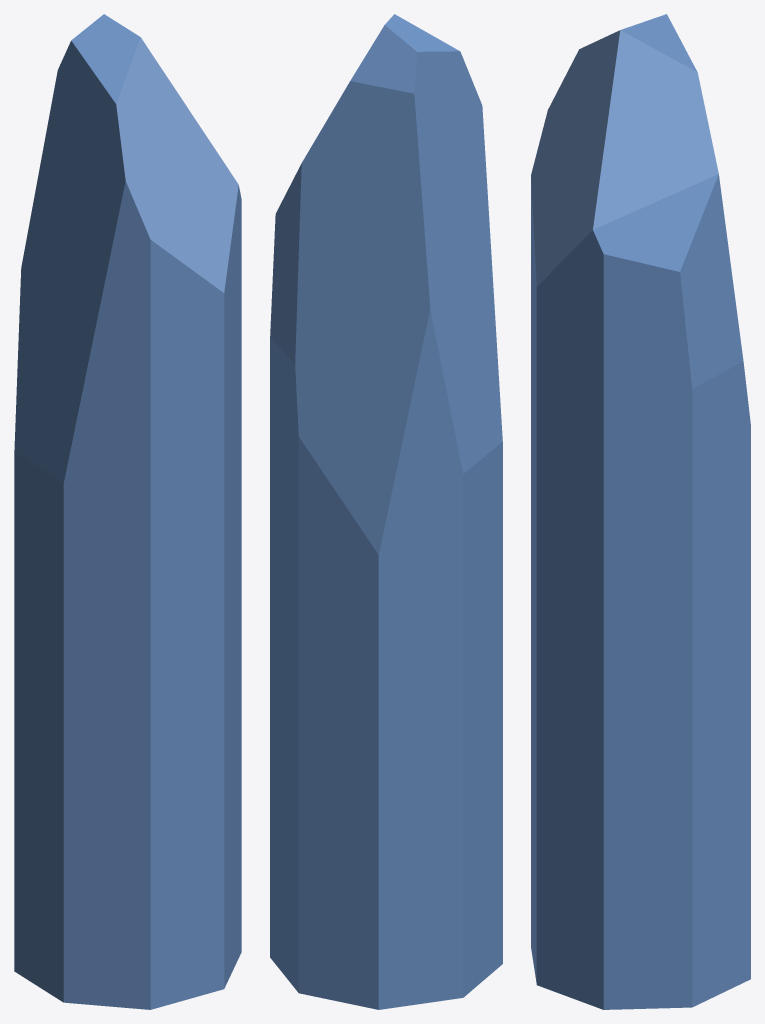
The model's file is crystal_4.fbx.
3 views of the same model, side by side, from view 1: azimuth 30°, elevation 25°; view 2: azimuth 150°, elevation 25°; view 3: azimuth 270°, elevation 25° (orthographic).
Visible parts, largest first — view 1: crystal_4; view 2: crystal_4; view 3: crystal_4.
Boxes of the visible parts, bbox=[...] form: crystal_4: bbox=[14, 14, 241, 1009]; crystal_4: bbox=[270, 14, 502, 1009]; crystal_4: bbox=[531, 14, 750, 1009].
Bounding box in the file's own units: 25.16 × 119 × 25.16.
